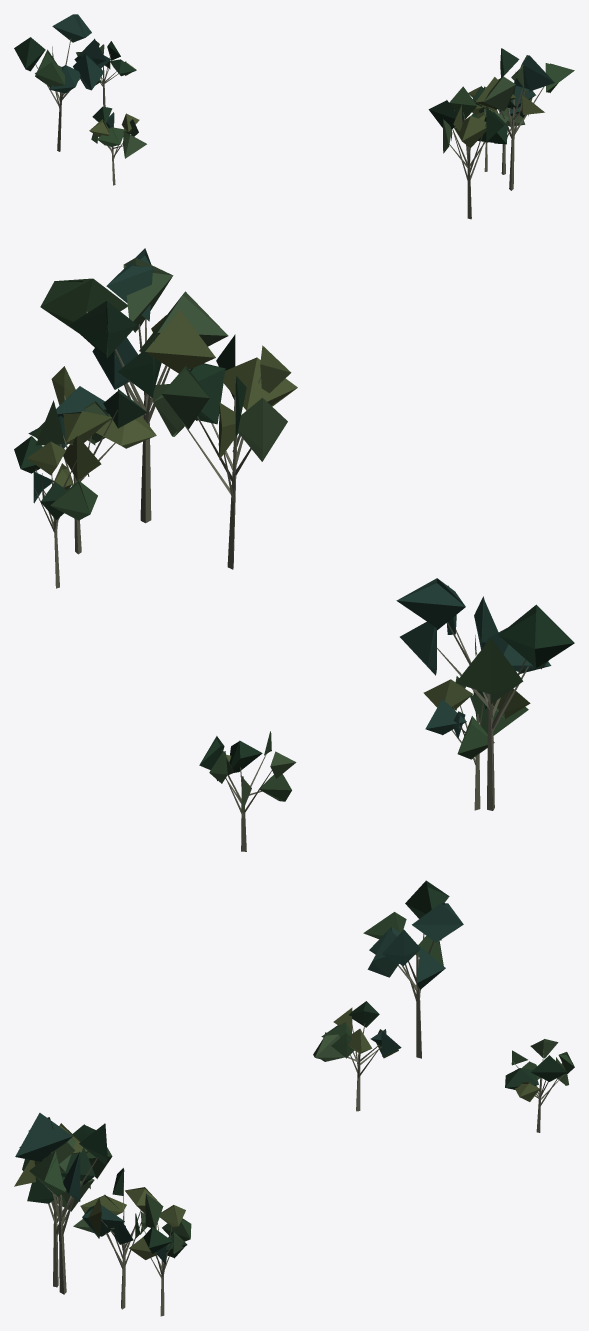
Rendered from forest_21_19.dae.
3 renders of one model, top to bottom at view 1: azimuth 30°, elevation 25°; view 2: azimuth 150°, elevation 25°; view 3: azimuth 270°, elevation 25°, orthographic. The views are drawn at different scales.
Parts seen in each view (by area): view 1: Node; view 2: Node; view 3: Node.
Boxes of the visible parts, x1,y1,x2,y2 form: Node: (14,14,574,219); Node: (14,248,574,851); Node: (14,880,574,1316).
Size of the model in its own units: 10.73 by 9.35 by 3.99.
